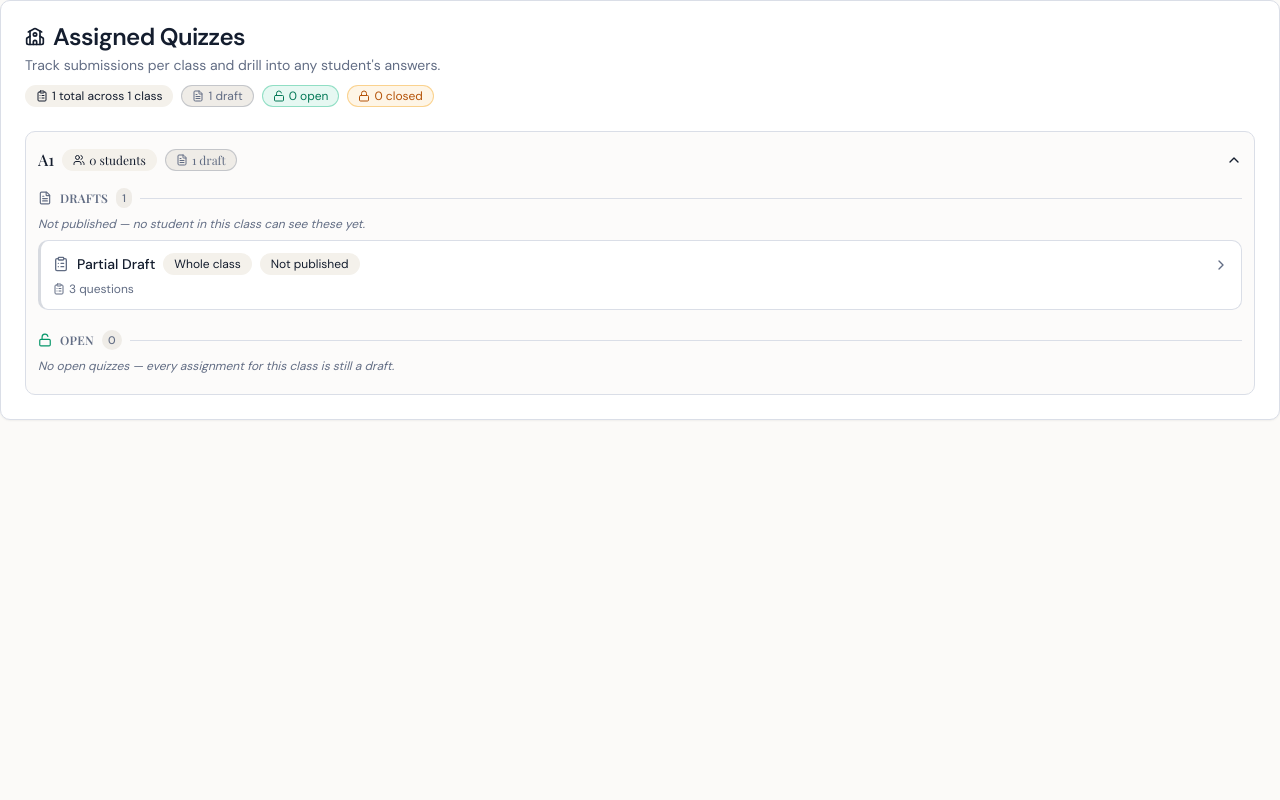
Scenario: AssignedQuizzesBoard › blocks publishing a nonempty draft while its generation job is still running
Later steps or results of the test are not shown.
Click the button "Partial Draft Whole class Not published 3 questions" at (116, 264), box [41, 241, 1241, 309]
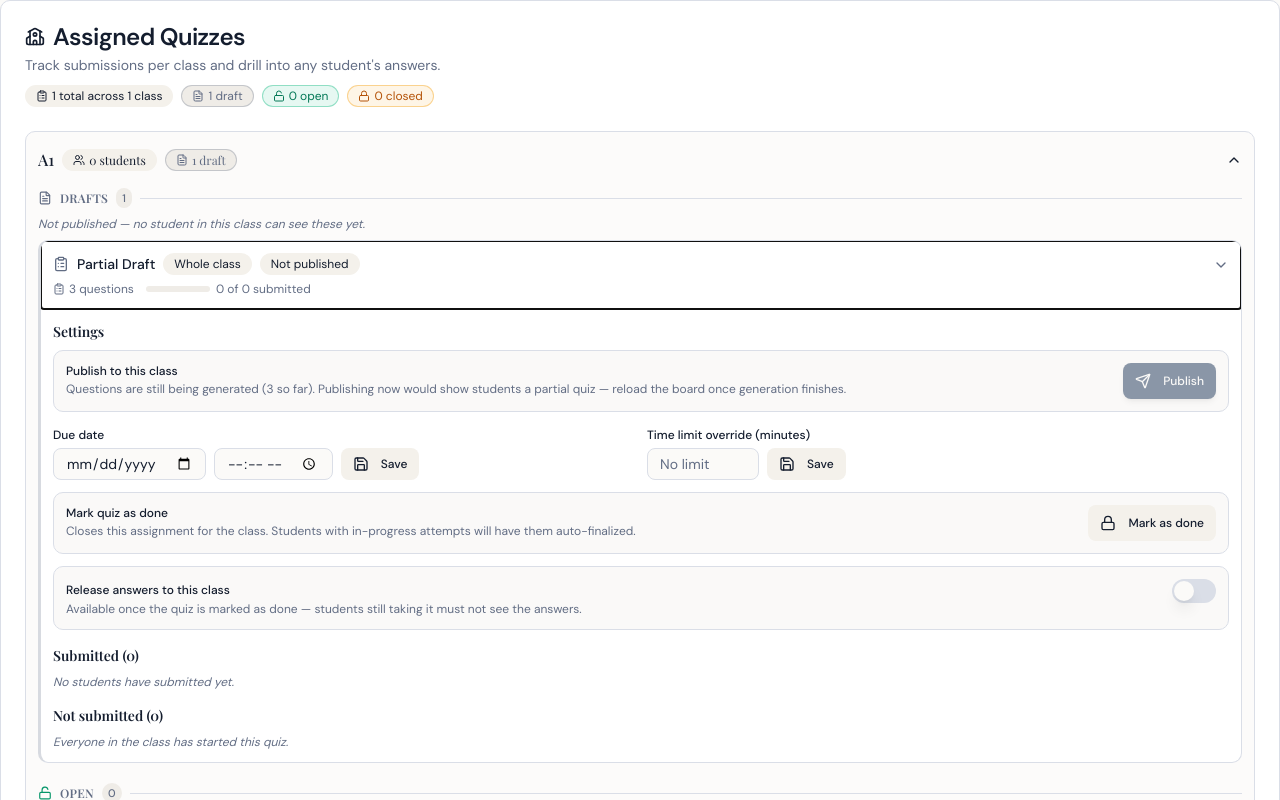
Check: the button with test id "publish-oq-gen" is disabled, box [1123, 363, 1216, 399]
Check: the text "Questions are still being generated (3 so far)" is shown, box [66, 381, 846, 397]
